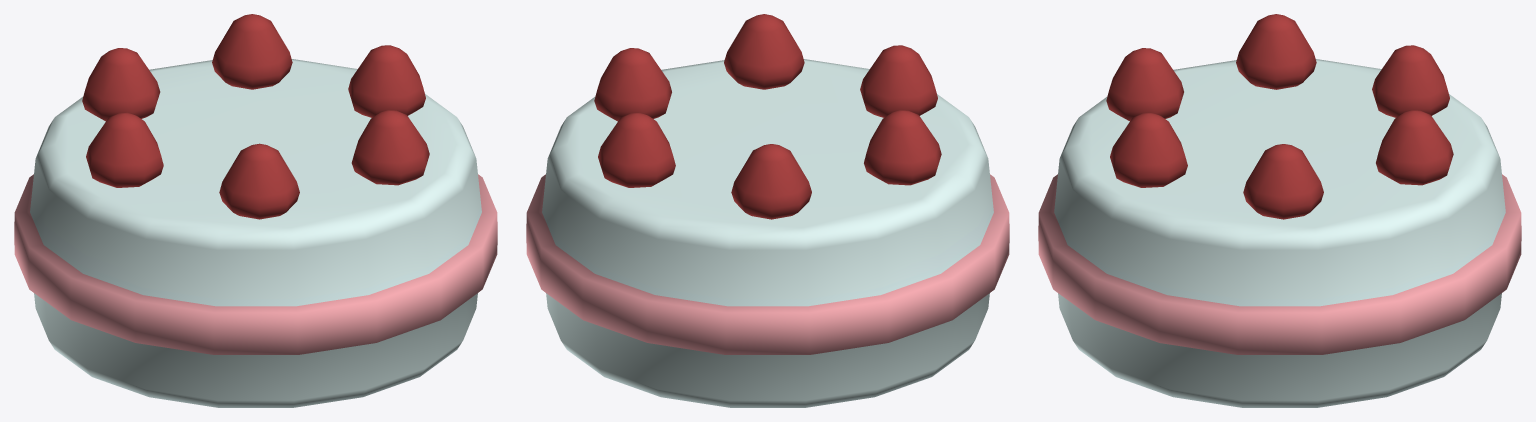
File: Cake.fbx
3 renders of one model, left to right at view 1: azimuth 30°, elevation 25°; view 2: azimuth 150°, elevation 25°; view 3: azimuth 270°, elevation 25°, orthographic.
Visible parts, largest first — view 1: Cake; view 2: Cake; view 3: Cake.
Part boxes in pixels (bbox=[...]): Cake: bbox=[14, 14, 497, 407]; Cake: bbox=[526, 14, 1009, 407]; Cake: bbox=[1038, 14, 1521, 407].
Size of the model in its own units: 44.75 by 25.15 by 45.44.
